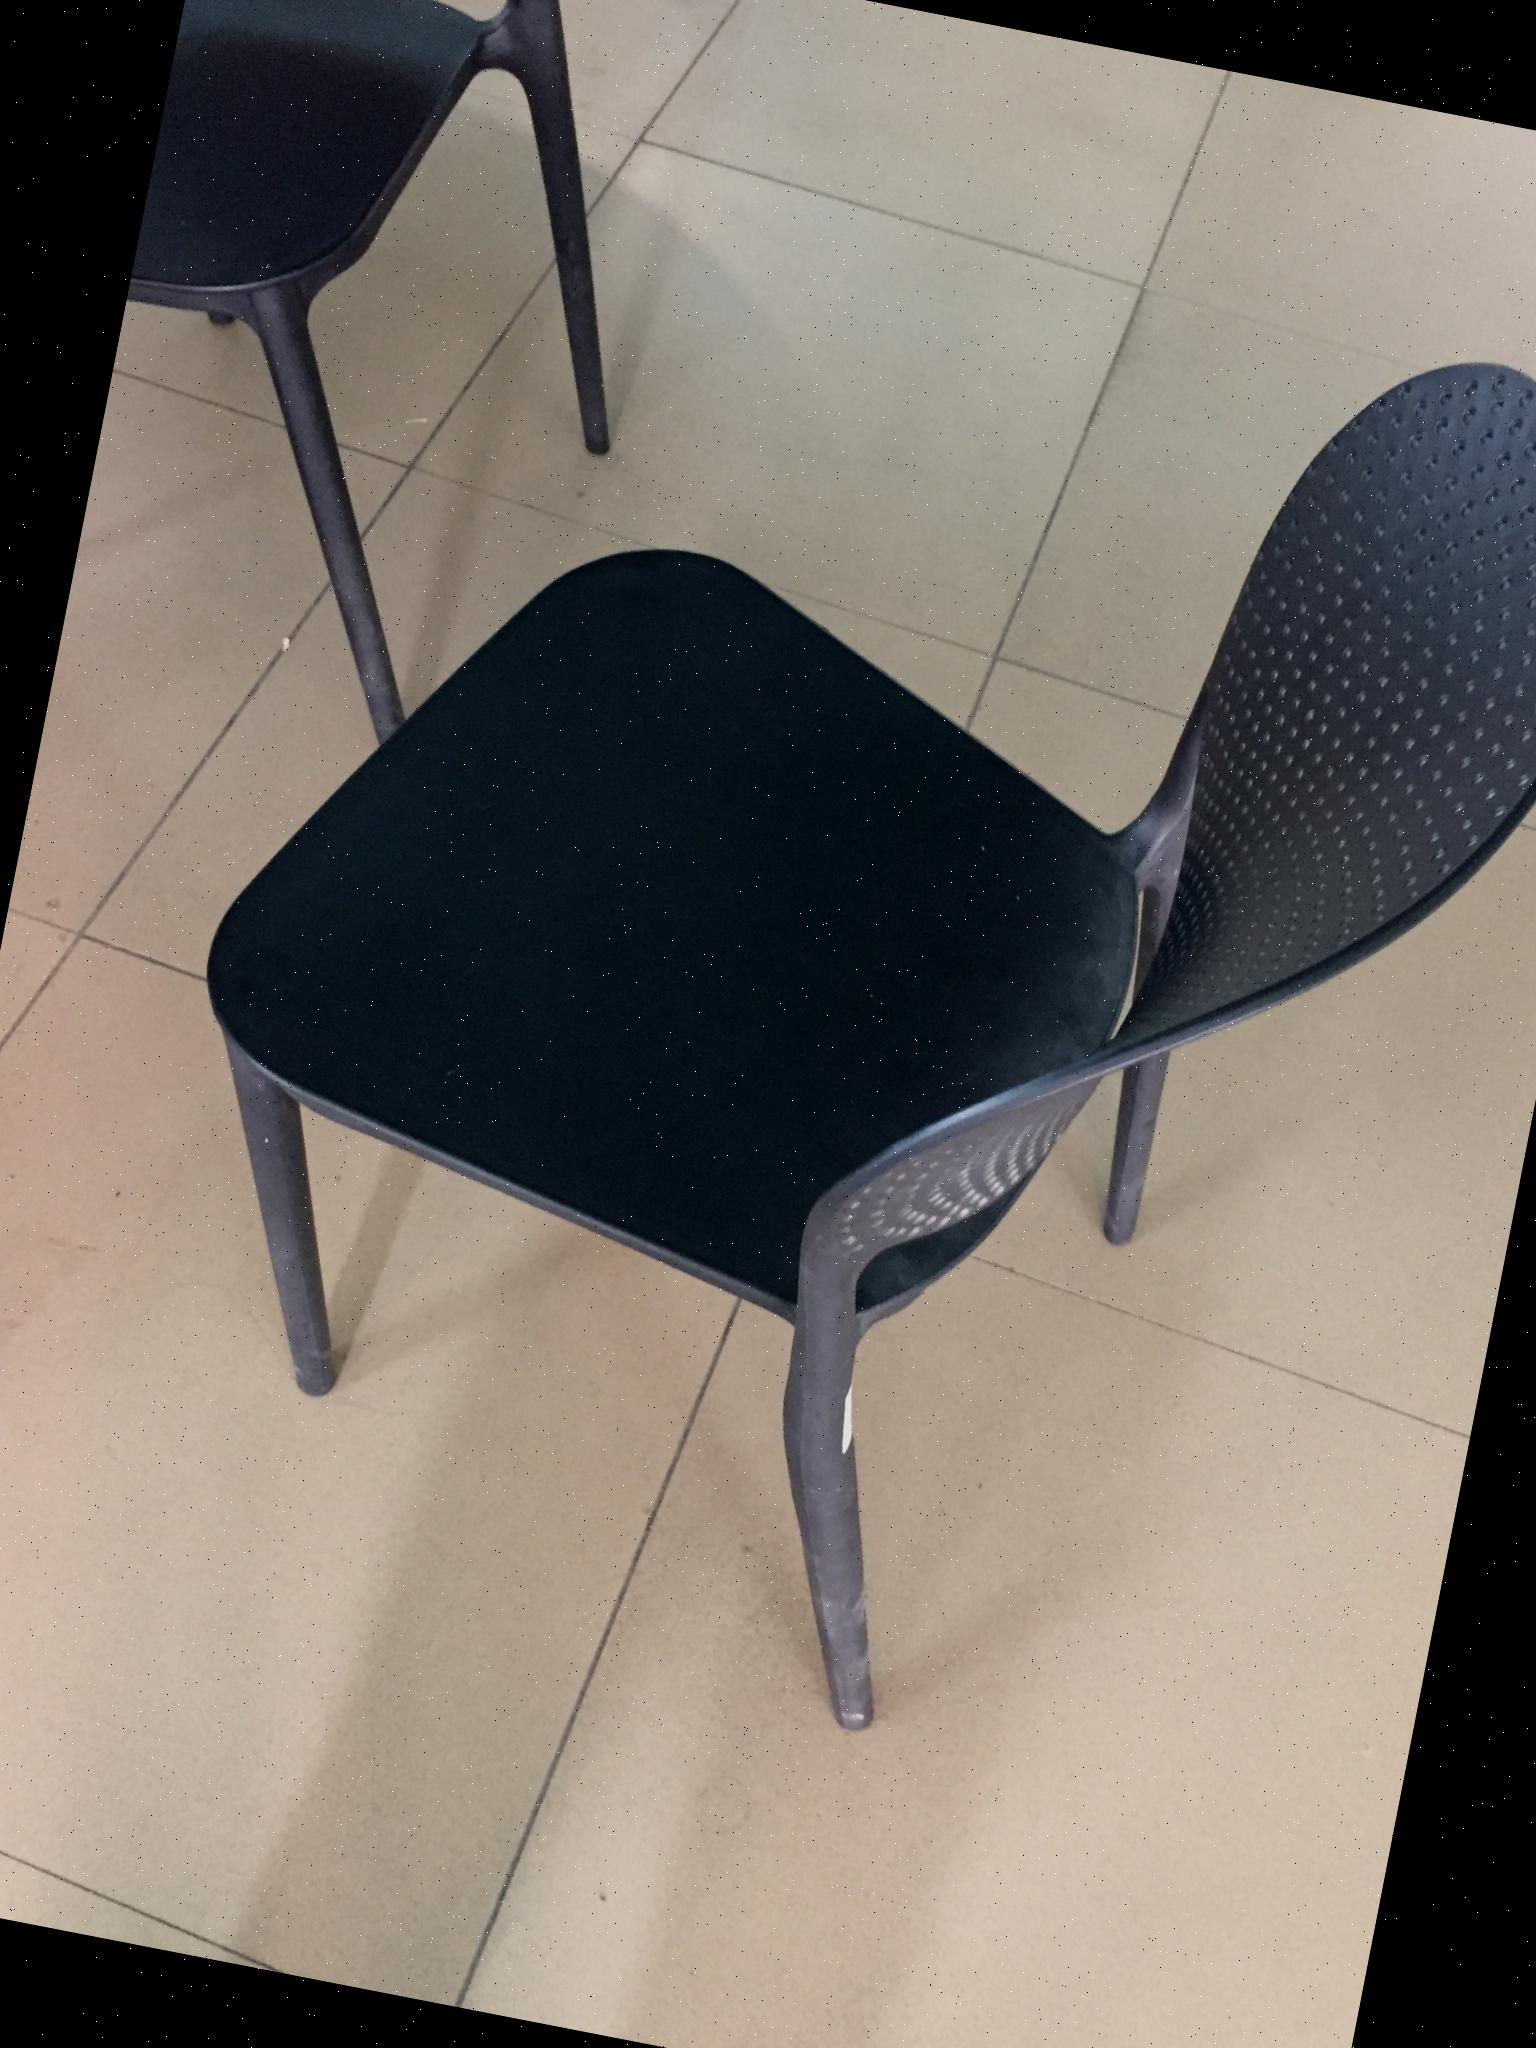chair: (86, 140, 1536, 1834), (52, 0, 703, 779)
